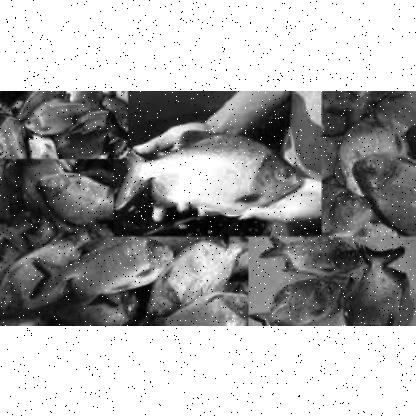ikan-pacu: (114, 131, 298, 216), (39, 236, 173, 294), (151, 241, 237, 313), (354, 150, 416, 240), (348, 246, 410, 326), (252, 274, 346, 324), (36, 169, 114, 223), (260, 236, 358, 276), (164, 291, 246, 325), (21, 95, 84, 131)
